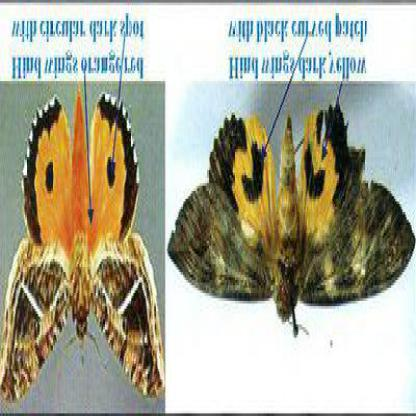fruit sucking moth: (168, 98, 415, 335), (0, 89, 165, 406)
